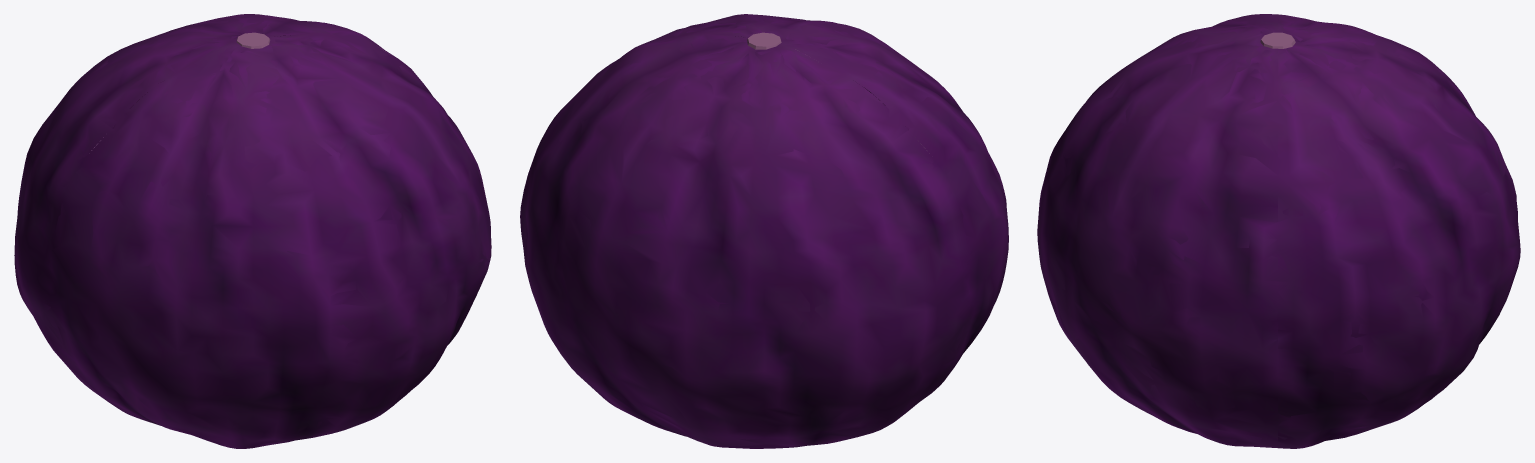
Rendered from chou-rouge.glb.
3 views of the same model, side by side, from view 1: azimuth 30°, elevation 25°; view 2: azimuth 150°, elevation 25°; view 3: azimuth 270°, elevation 25° (orthographic).
Parts seen in each view (by area): view 1: entier_peau, moitie_B_peau, moitie_A_peau; view 2: entier_peau, moitie_A_peau, moitie_B_peau, entier_extra0; view 3: entier_peau, moitie_B_peau, moitie_A_peau, entier_extra0.
Part boxes in pixels (left/top/right/bottom): entier_peau: left=14, top=14, right=491, bottom=448; moitie_B_peau: left=50, top=33, right=491, bottom=448; moitie_A_peau: left=15, top=14, right=390, bottom=403; entier_peau: left=520, top=14, right=1008, bottom=448; moitie_A_peau: left=520, top=33, right=970, bottom=448; moitie_B_peau: left=656, top=14, right=1008, bottom=385; entier_extra0: left=747, top=32, right=781, bottom=49; entier_peau: left=1037, top=14, right=1520, bottom=448; moitie_B_peau: left=1037, top=14, right=1277, bottom=447; moitie_A_peau: left=1278, top=14, right=1520, bottom=448; entier_extra0: left=1260, top=32, right=1295, bottom=48.
Bounding box in the file's own units: 2.05 × 1.81 × 2.08.
